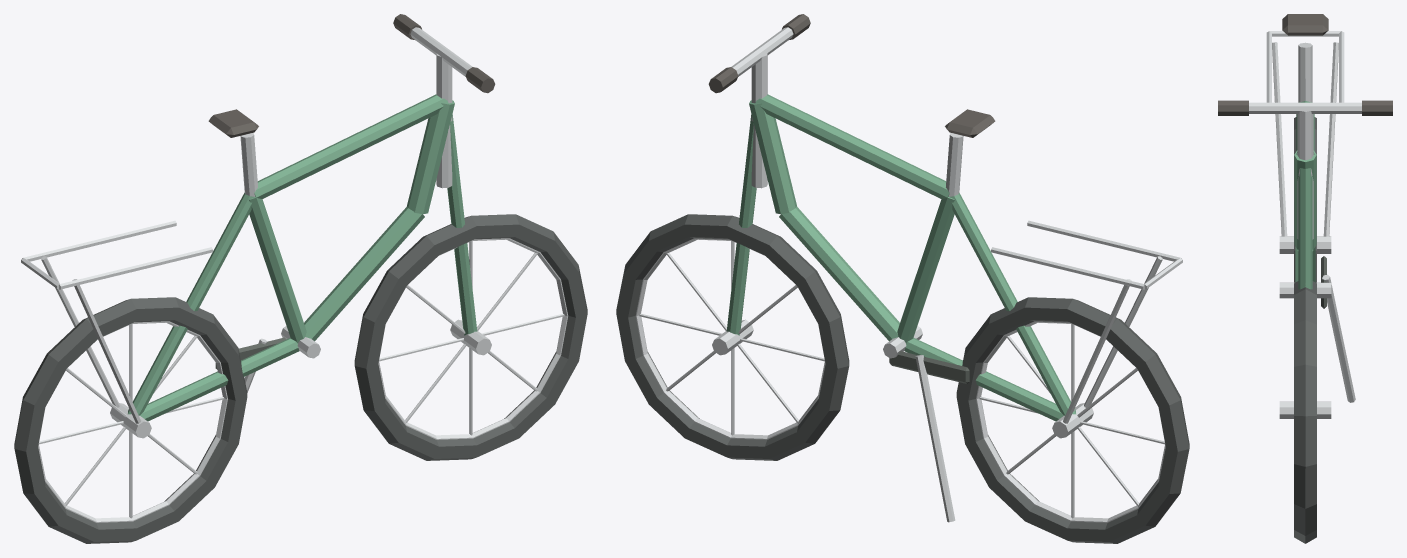
Rendered from xinhua-commuter-bicycle-visible-low.glb.
The picture shows the model from 3 angles, left to right: view 1: azimuth 30°, elevation 25°; view 2: azimuth 150°, elevation 25°; view 3: azimuth 270°, elevation 25°; orthographic projection.
Parts seen in each view (by area): view 1: GEO-xinhua-commuter-bicycle-tire, GEO-xinhua-commuter-bicycle-frame, GEO-xinhua-commuter-bicycle-metal, GEO-xinhua-commuter-bicycle-seat; view 2: GEO-xinhua-commuter-bicycle-tire, GEO-xinhua-commuter-bicycle-frame, GEO-xinhua-commuter-bicycle-metal, GEO-xinhua-commuter-bicycle-seat, GEO-xinhua-commuter-bicycle-accent; view 3: GEO-xinhua-commuter-bicycle-metal, GEO-xinhua-commuter-bicycle-tire, GEO-xinhua-commuter-bicycle-frame, GEO-xinhua-commuter-bicycle-seat.
Part boxes in pixels (left/top/right/bottom): GEO-xinhua-commuter-bicycle-tire: left=14, top=214, right=587, bottom=543; GEO-xinhua-commuter-bicycle-frame: left=128, top=94, right=477, bottom=421; GEO-xinhua-commuter-bicycle-metal: left=21, top=27, right=568, bottom=522; GEO-xinhua-commuter-bicycle-seat: left=208, top=14, right=495, bottom=137; GEO-xinhua-commuter-bicycle-tire: left=616, top=214, right=1189, bottom=543; GEO-xinhua-commuter-bicycle-frame: left=726, top=94, right=1075, bottom=421; GEO-xinhua-commuter-bicycle-metal: left=635, top=27, right=1182, bottom=522; GEO-xinhua-commuter-bicycle-seat: left=708, top=14, right=995, bottom=137; GEO-xinhua-commuter-bicycle-accent: left=889, top=351, right=969, bottom=383; GEO-xinhua-commuter-bicycle-metal: left=1249, top=31, right=1361, bottom=418; GEO-xinhua-commuter-bicycle-tire: left=1294, top=117, right=1316, bottom=543; GEO-xinhua-commuter-bicycle-frame: left=1294, top=101, right=1316, bottom=289; GEO-xinhua-commuter-bicycle-seat: left=1218, top=14, right=1392, bottom=115.
Size of the model in its own units: 0.64 by 0.448 by 0.17.
